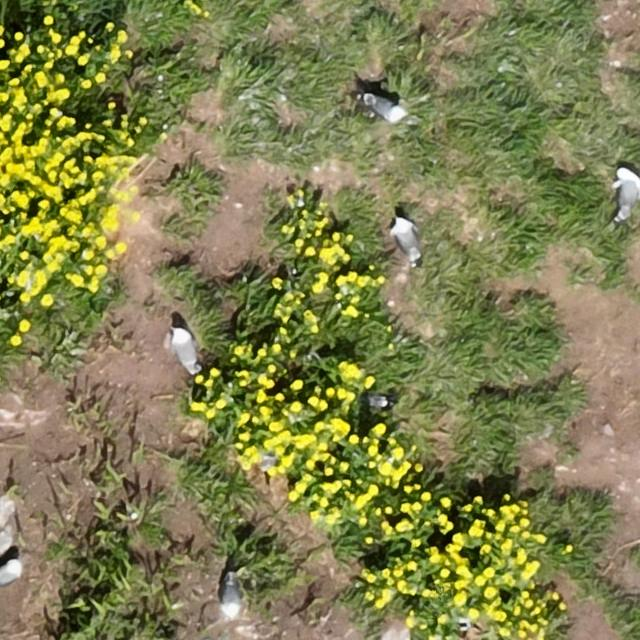umineko: (173, 330, 198, 370), (618, 170, 639, 216), (366, 97, 405, 121), (396, 221, 419, 260), (222, 577, 241, 616), (0, 560, 20, 589)
